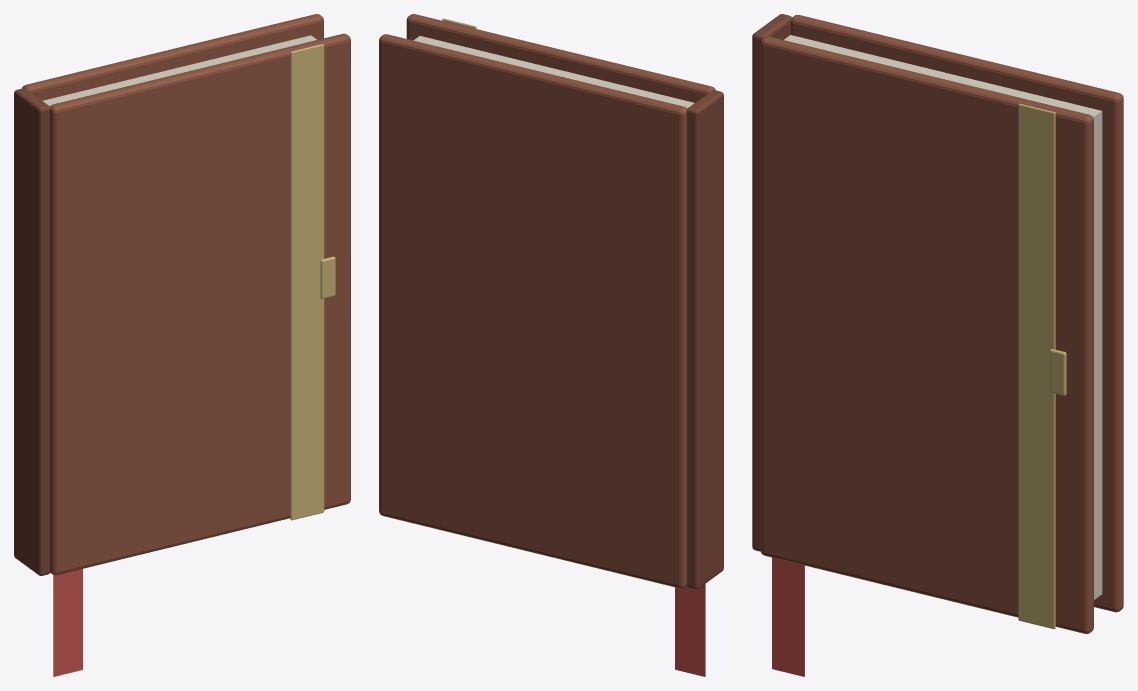
The model's file is book.glb.
The picture shows the model from 3 angles, left to right: view 1: azimuth 30°, elevation 25°; view 2: azimuth 150°, elevation 25°; view 3: azimuth 330°, elevation 25°; orthographic projection. The views are drawn at different scales.
Parts seen in each view (by area): view 1: Cover_Front, Spine, Clasp, Cover_Back, Ribbon, Clasp_Loop, Page_002, Page_001, Page_003, Page_004; view 2: Cover_Back, Spine, Cover_Front, Ribbon, Page_010, Page_011, Page_012, Page_009; view 3: Cover_Front, Clasp, Cover_Back, Spine, Ribbon, Page_002, Page_001, Page_003, Page_004, Clasp_Loop.
Part boxes in pixels (bbox=[...]): Cover_Front: bbox=[50, 33, 350, 575]; Spine: bbox=[14, 88, 50, 575]; Clasp: bbox=[290, 44, 324, 520]; Cover_Back: bbox=[22, 14, 323, 100]; Ribbon: bbox=[53, 569, 82, 676]; Clasp_Loop: bbox=[320, 256, 335, 298]; Page_002: bbox=[44, 36, 313, 103]; Page_001: bbox=[42, 35, 312, 101]; Page_003: bbox=[46, 37, 315, 104]; Page_004: bbox=[47, 39, 316, 105]; Cover_Back: bbox=[379, 34, 687, 588]; Spine: bbox=[686, 90, 723, 589]; Cover_Front: bbox=[406, 14, 715, 102]; Ribbon: bbox=[675, 584, 705, 676]; Page_010: bbox=[415, 38, 691, 106]; Page_011: bbox=[417, 37, 692, 105]; Page_012: bbox=[418, 36, 694, 103]; Page_009: bbox=[413, 39, 689, 107]; Cover_Front: bbox=[760, 36, 1093, 633]; Clasp: bbox=[1018, 103, 1055, 629]; Cover_Back: bbox=[791, 15, 1123, 612]; Spine: bbox=[752, 14, 791, 551]; Ribbon: bbox=[772, 557, 804, 676]; Page_002: bbox=[787, 36, 1100, 596]; Page_001: bbox=[789, 35, 1102, 595]; Page_003: bbox=[785, 37, 1098, 597]; Page_004: bbox=[784, 39, 1096, 599]; Clasp_Loop: bbox=[1050, 349, 1066, 395].
Size of the model in its own units: 1.48 by 2.62 by 0.298.
